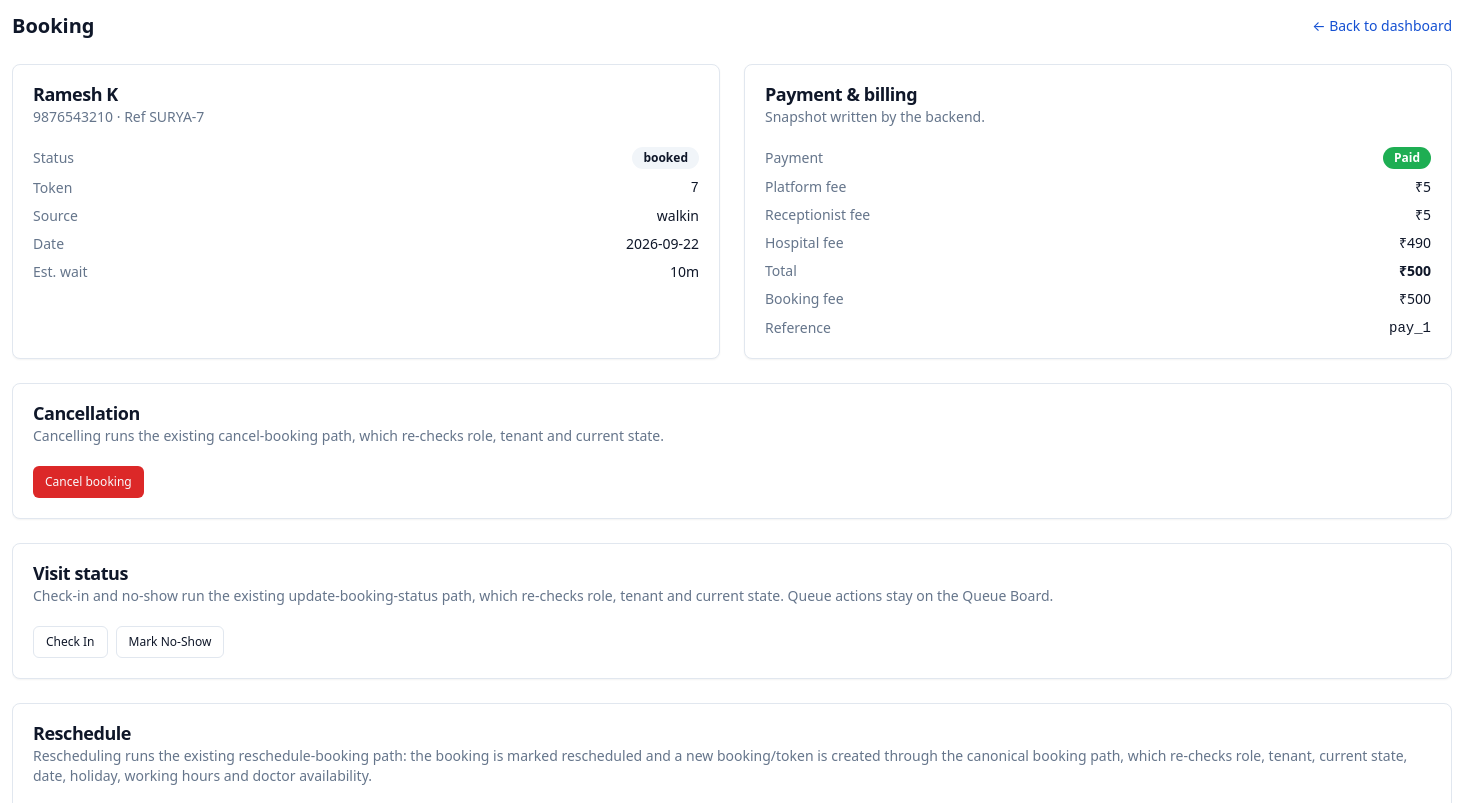
BookingDetail status-closure control › treats the changed:false replay as a completed outcome, not an error
Expected: the heading "Ramesh K" is shown, [33, 82, 118, 106]
Click the button "Check In": x=70, y=642 [33, 626, 108, 658]
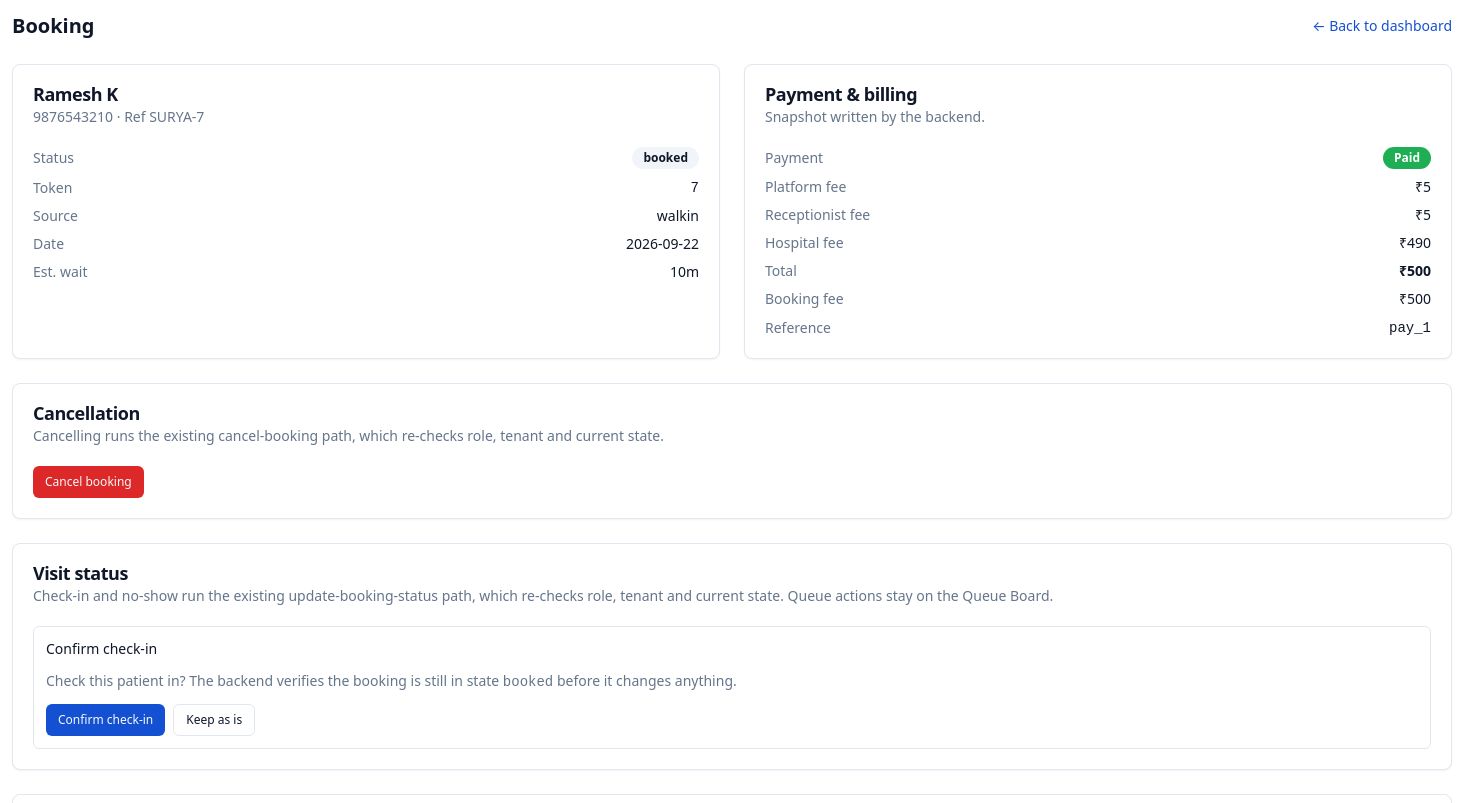
Click the button "Confirm check-in": x=106, y=720 [46, 704, 165, 736]
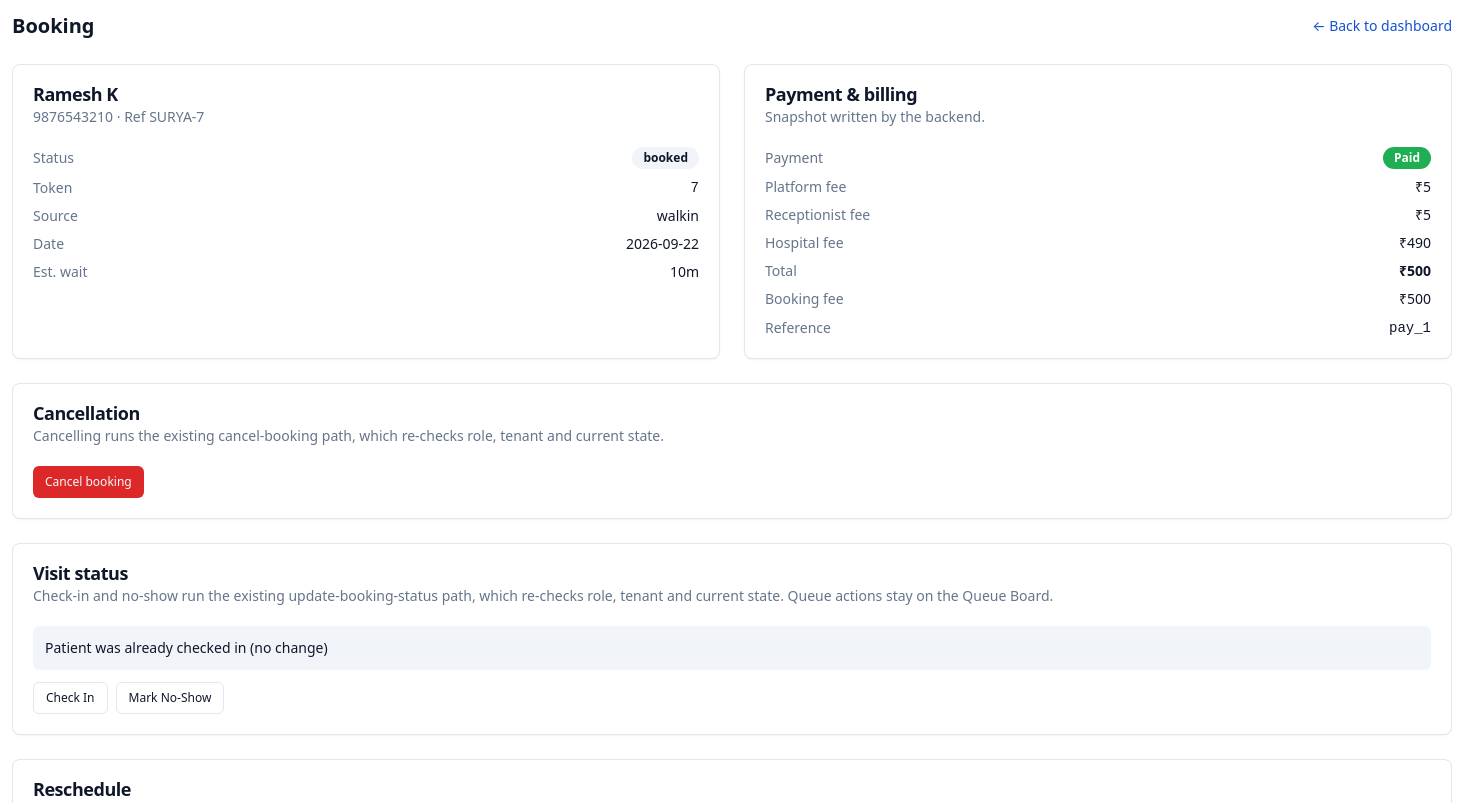
Result: the text "Patient was already checked in (no change)" is shown at [33, 626, 1431, 670]
